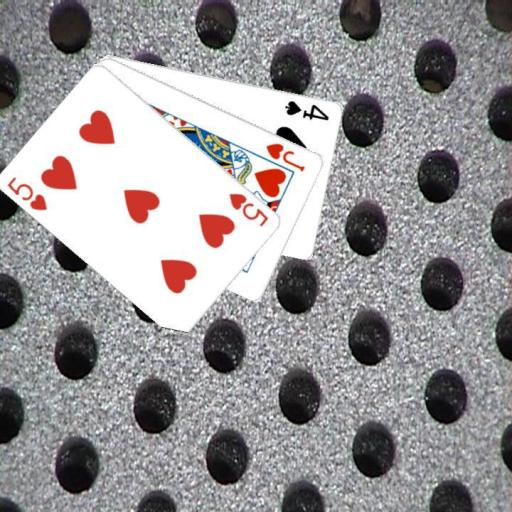4S: (282, 97, 331, 122)
5H: (4, 174, 50, 213), (226, 189, 271, 228)
JH: (263, 139, 307, 173)
